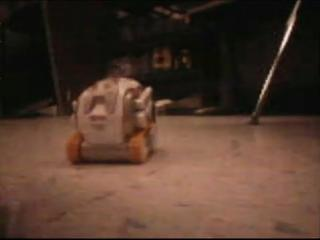cozmo: (65, 54, 170, 164)
